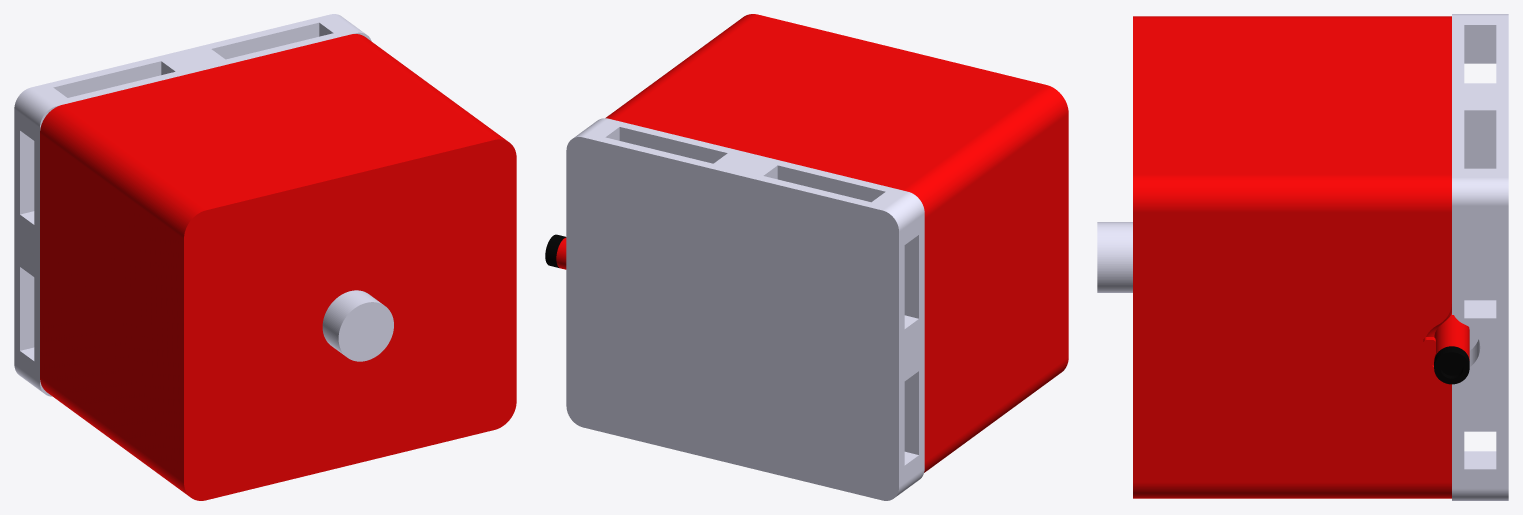
Rendered from IBC.fbx.
3 views of the same model, side by side, from view 1: azimuth 30°, elevation 25°; view 2: azimuth 150°, elevation 25°; view 3: azimuth 270°, elevation 25° (orthographic). The views are drawn at different scales.
Visible parts, largest first — view 1: IBC2, IBC1, IBC4; view 2: IBC1, IBC2; view 3: IBC2, IBC1, IBC4, IBC3.
Part boxes in pixels (x1,y1,x2,y2): IBC2: (40,34,516,500); IBC1: (14,14,371,396); IBC4: (322,290,393,361); IBC1: (566,118,924,500); IBC2: (556,14,1068,472); IBC2: (1133,16,1469,498); IBC1: (1452,14,1508,500); IBC4: (1097,222,1132,292); IBC3: (1434,346,1469,384).
Bounding box in the file's own units: 1.34 × 1 × 1.16.
